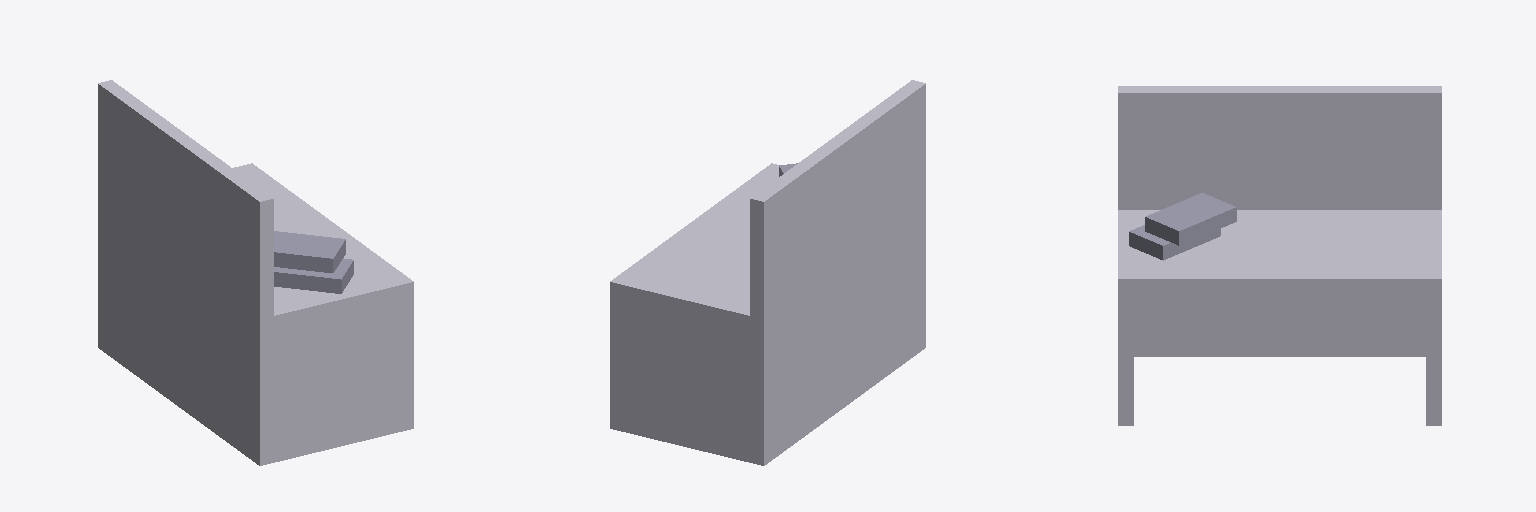
Rendered from desk1.obj.
3 views of the same model, side by side, from view 1: azimuth 30°, elevation 25°; view 2: azimuth 150°, elevation 25°; view 3: azimuth 270°, elevation 25° (orthographic).
Size of the model in its own units: 1.1 by 1.8 by 2.